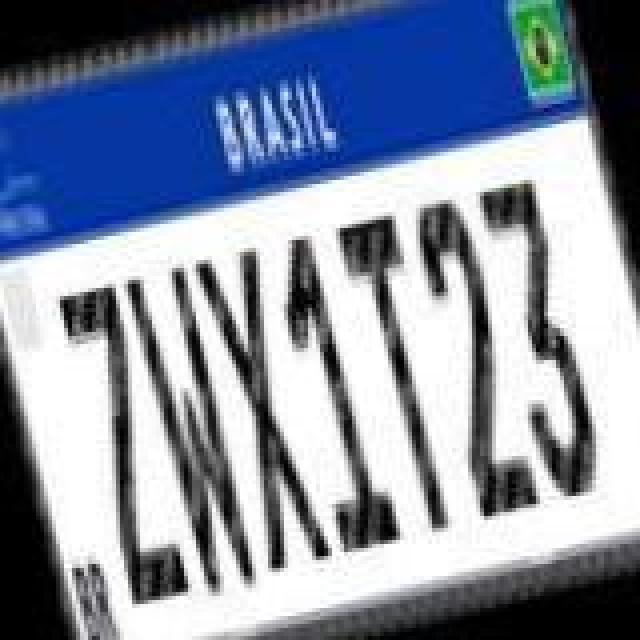1: (268, 222, 408, 562)
2: (400, 186, 544, 530)
3: (470, 172, 610, 508)
T: (332, 206, 468, 542)
W: (120, 258, 268, 610)
X: (192, 238, 340, 578)
Z: (52, 276, 192, 612)
